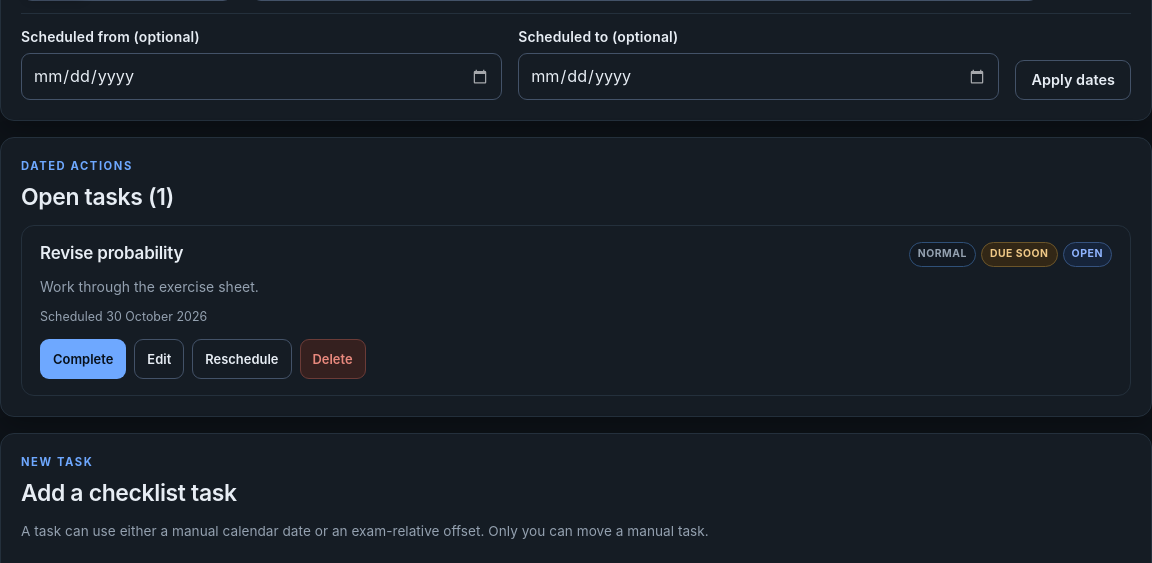
Scenario: checklist screen › requires confirmation before deleting a task
(page scrolled)
Check: the text "Revise probability" is shown, box [40,243,183,263]
Click the button "Delete" at (332, 360), box [300,340,366,380]
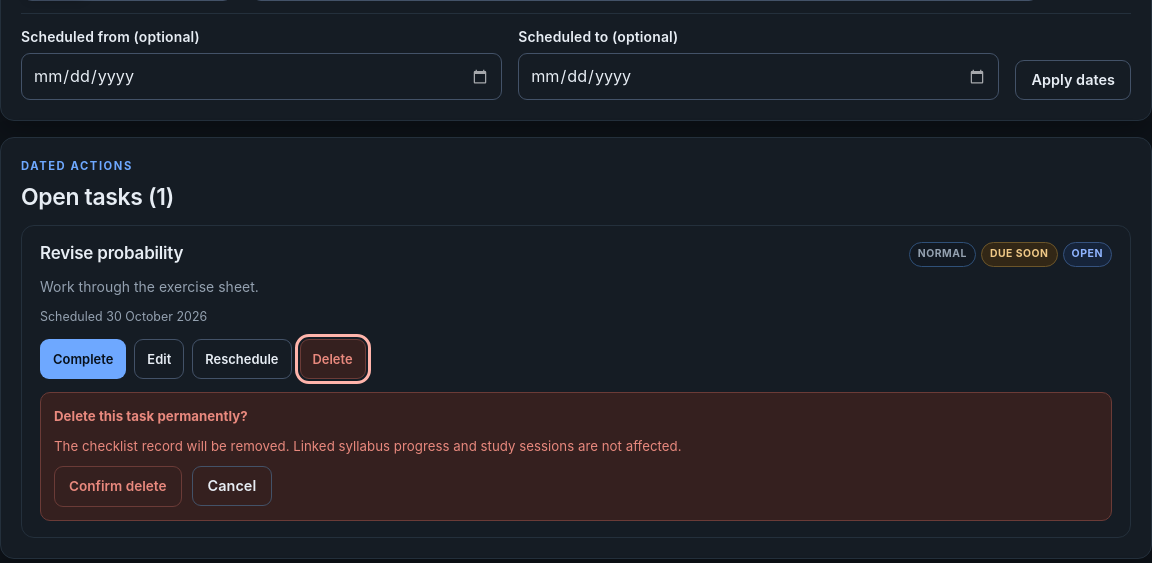
Check: the dialog shows "Delete this task permanently?", box [54,408,248,424]
Click the button "Confirm delete" at (118, 486), box [54,466,182,507]
(page scrolled)
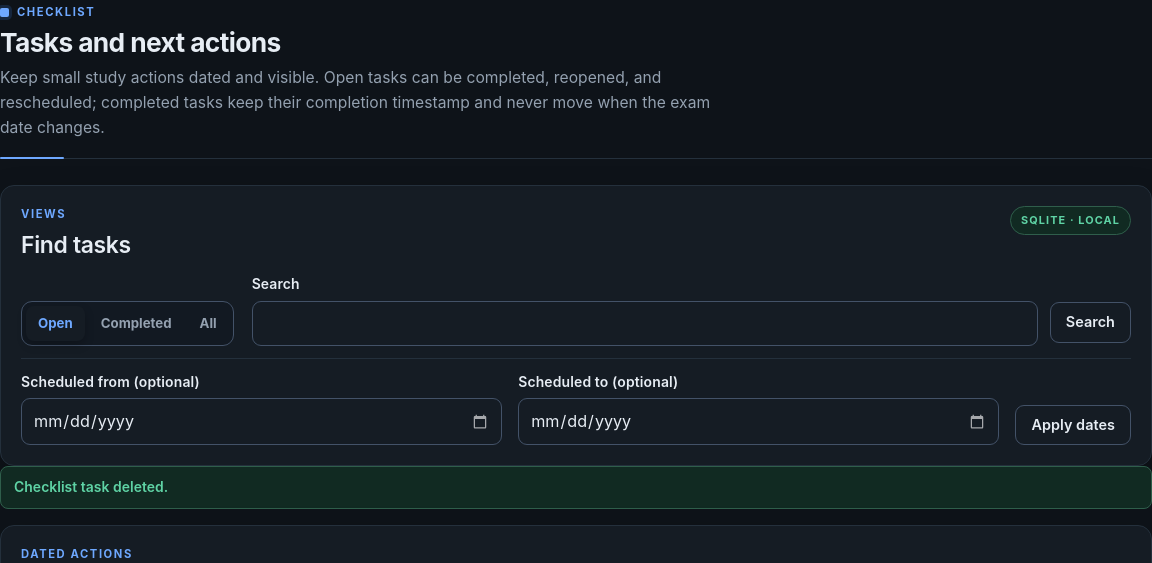
Check: the text "Checklist task deleted." is shown, box [0,466,1151,509]
